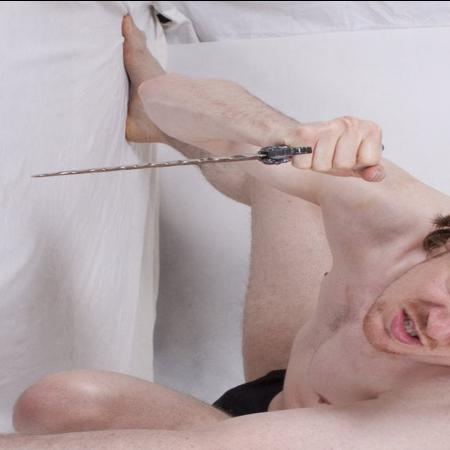long weapon: (20, 109, 396, 190)
